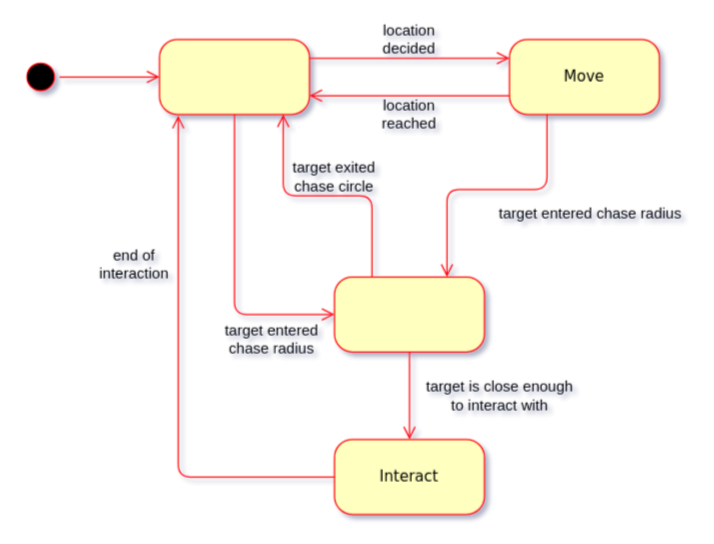
This 714x544 diagram has some shape labels left out. Each missing label, with the box of its shape:
Chase: (333, 276, 484, 352)
Decide: (158, 38, 309, 114)
